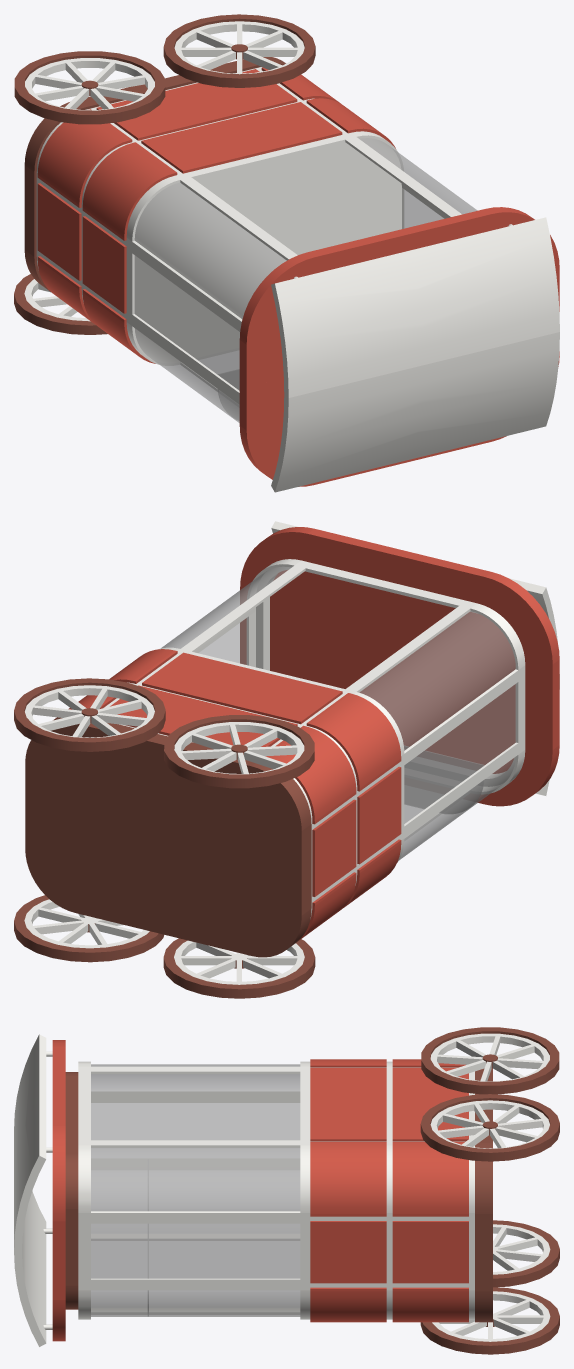
File: simit_glb.glb
3 renders of one model, top to bottom at view 1: azimuth 30°, elevation 25°; view 2: azimuth 150°, elevation 25°; view 3: azimuth 270°, elevation 25°, orthographic. The views are drawn at different scales.
Visible parts, largest first — view 1: ID24 (×2), ID293 (×2), ID54 (×2), ID319 (×2), ID447, ID621 (×2), ID10 (×2), ID283, ID597 (×2), ID311, ID46 (×2), ID431 (+20 smaller); view 2: ID10 (×2), ID126 (×2), ID391 (×2), ID283 (×2), ID447, ID46 (×2), ID311, ID621 (×2), ID597 (×2), ID570 (×2), ID431, ID202 (×2) (+19 smaller); view 3: ID184 (×2), ID778, ID463 (×2), ID46 (×2), ID202 (×2), ID447 (×2), ID311 (×2), ID621 (×2), ID168, ID597 (×2), ID152, ID293 (×2) (+24 smaller).
Part boxes in pixels (left/top/right/bottom): ID24 (×2): left=271, top=217, right=559, bottom=492; ID293 (×2): left=271, top=250, right=559, bottom=459; ID54 (×2): left=126, top=135, right=448, bottom=388; ID319 (×2): left=126, top=161, right=401, bottom=282; ID447: left=134, top=182, right=286, bottom=318; ID621 (×2): left=14, top=14, right=315, bottom=124; ID10 (×2): left=239, top=207, right=559, bottom=486; ID283: left=239, top=230, right=403, bottom=387; ID597 (×2): left=32, top=24, right=297, bottom=109; ID311: left=36, top=88, right=297, bottom=331; ID46 (×2): left=36, top=67, right=461, bottom=404; ID431: left=82, top=142, right=177, bottom=240; ID10 (×2): left=240, top=527, right=559, bottom=806; ID126 (×2): left=25, top=717, right=311, bottom=957; ID391 (×2): left=25, top=742, right=311, bottom=934; ID283 (×2): left=240, top=550, right=559, bottom=722; ID447: left=359, top=611, right=515, bottom=750; ID46 (×2): left=104, top=559, right=525, bottom=918; ID311: left=192, top=582, right=525, bottom=863; ID621 (×2): left=14, top=678, right=314, bottom=788; ID597 (×2): left=31, top=688, right=297, bottom=773; ID570 (×2): left=14, top=895, right=315, bottom=998; ID431: left=306, top=693, right=401, bottom=791; ID202 (×2): left=199, top=616, right=515, bottom=823; ID184 (×2): left=91, top=1148, right=300, bottom=1233; ID778: left=91, top=1239, right=299, bottom=1307; ID463 (×2): left=91, top=1103, right=300, bottom=1278; ID46 (×2): left=78, top=1106, right=474, bottom=1251; ID202 (×2): left=91, top=1131, right=300, bottom=1250; ID447 (×2): left=91, top=1064, right=300, bottom=1316; ID311 (×2): left=78, top=1061, right=474, bottom=1319; ID621 (×2): left=420, top=1027, right=559, bottom=1161; ID168: left=310, top=1142, right=386, bottom=1216; ID597 (×2): left=436, top=1036, right=543, bottom=1147; ID152: left=392, top=1142, right=468, bottom=1216; ID293 (×2): left=14, top=1034, right=46, bottom=1346.
Size of the model in its own units: 51.14 by 35.55 by 84.28.
